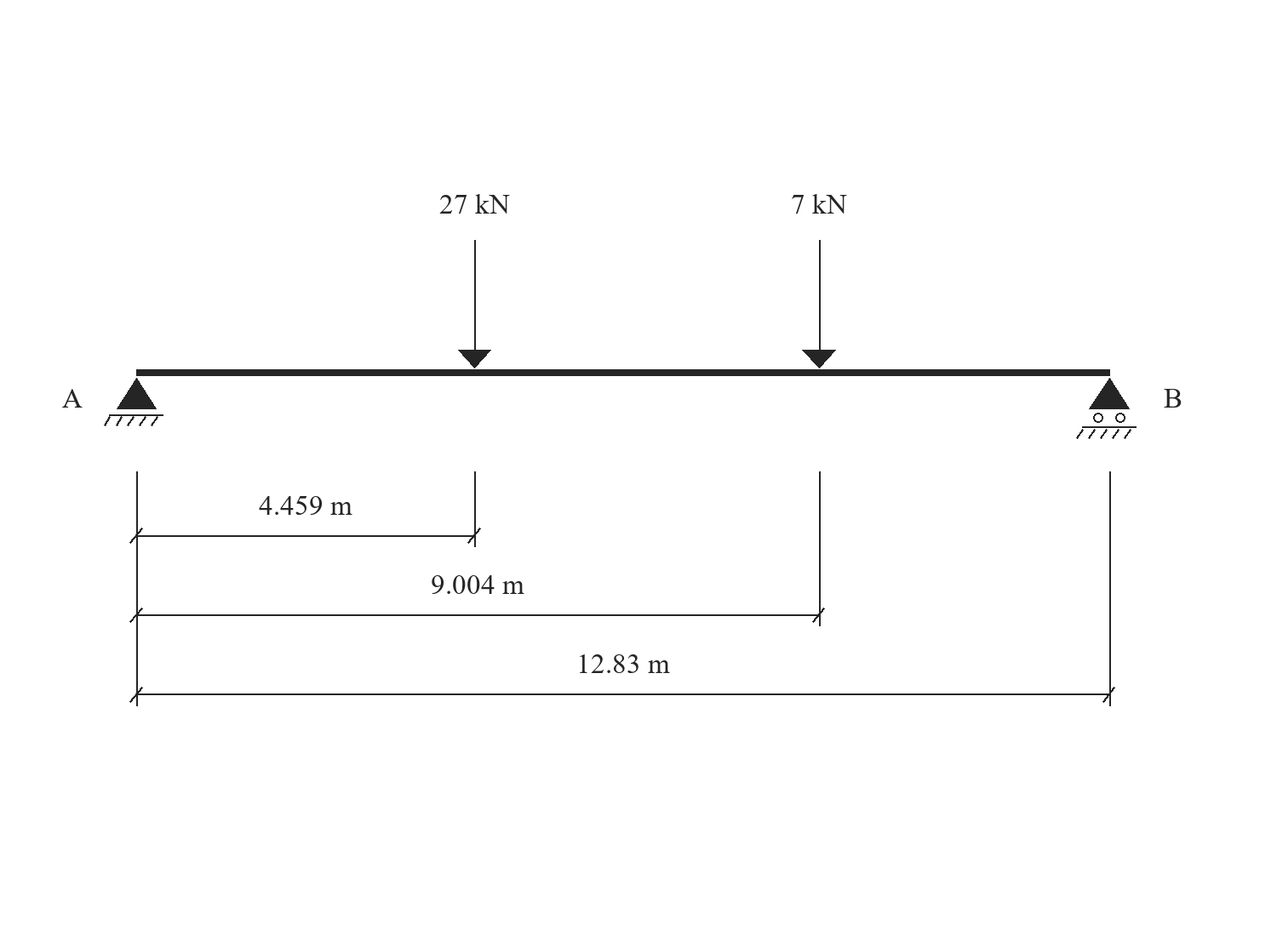pin_support: (104, 378, 163, 426)
point_load: (802, 240, 836, 368), (458, 240, 491, 368)
roller_support: (1076, 378, 1137, 439)
